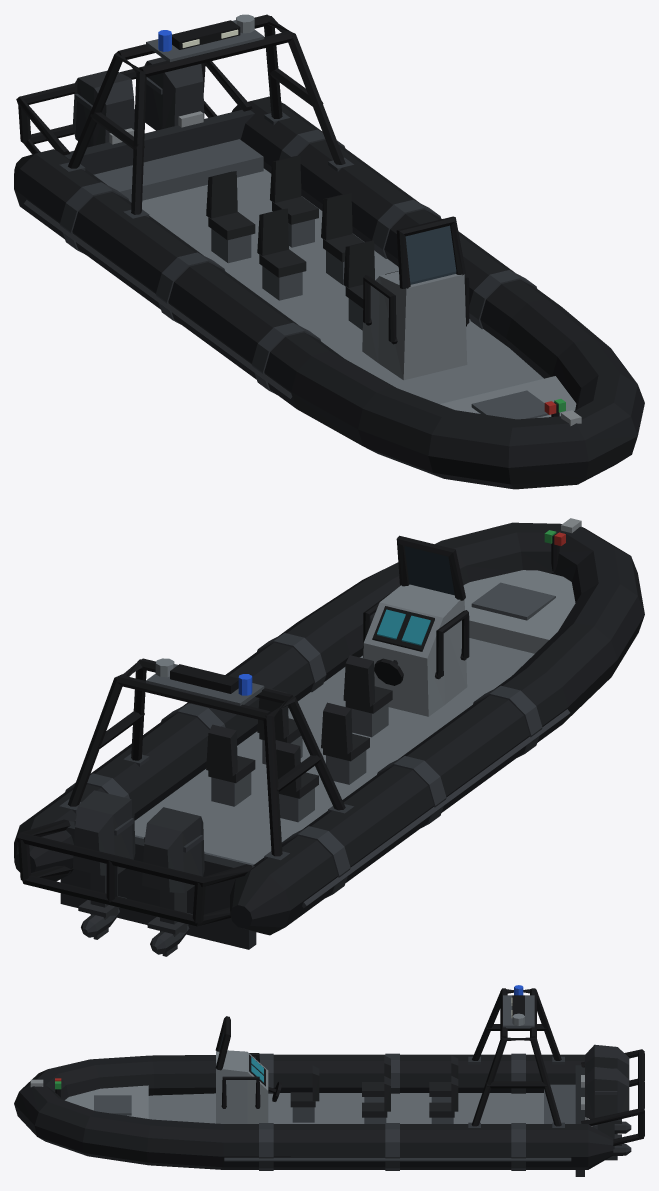
The model's file is PatrolRhibClean.glb.
3 renders of one model, top to bottom at view 1: azimuth 30°, elevation 25°; view 2: azimuth 150°, elevation 25°; view 3: azimuth 270°, elevation 25°, orthographic. The views are drawn at different scales.
Parts seen in each view (by area): view 1: PatrolRhib; view 2: PatrolRhib; view 3: PatrolRhib.
Boxes of the visible parts, x1,y1,x2,y2 form: PatrolRhib: (14, 14, 644, 489); PatrolRhib: (14, 518, 644, 956); PatrolRhib: (14, 985, 644, 1176).
Size of the model in its own units: 10.22 by 8 by 30.
Materials: 1 (1 with a texture image).
